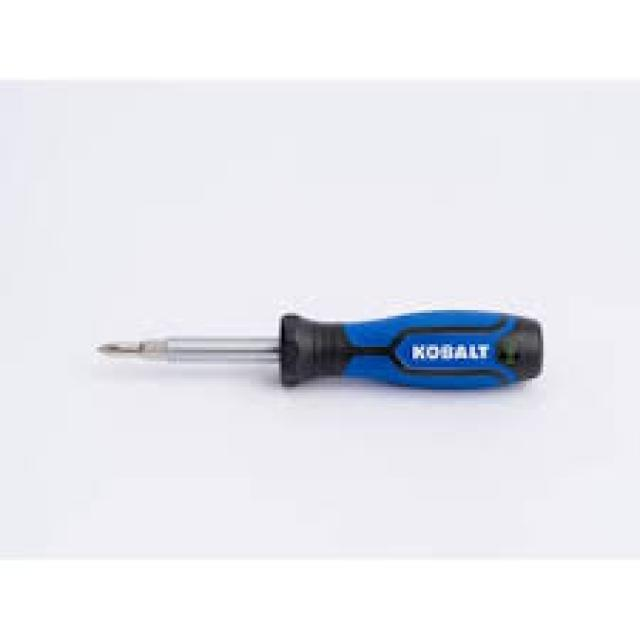Screwdriver: (97, 310, 543, 390)
